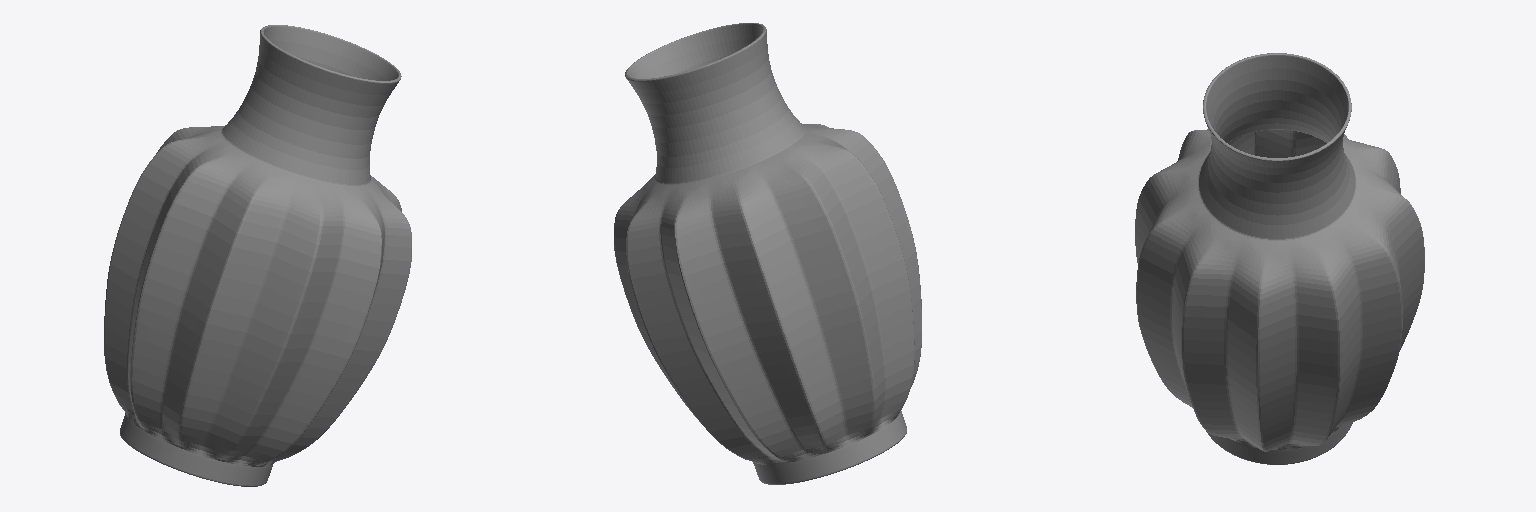
File: vase_xyz.obj
3 renders of one model, left to right at view 1: azimuth 30°, elevation 25°; view 2: azimuth 150°, elevation 25°; view 3: azimuth 270°, elevation 25°, orthographic.
Visible parts, largest first — view 1: 10327_Vase_v1_max2010.001; view 2: 10327_Vase_v1_max2010.001; view 3: 10327_Vase_v1_max2010.001.
Part boxes in pixels (bbox=[...]): 10327_Vase_v1_max2010.001: bbox=[104, 25, 411, 486]; 10327_Vase_v1_max2010.001: bbox=[614, 23, 921, 484]; 10327_Vase_v1_max2010.001: bbox=[1135, 53, 1424, 464].
Size of the model in its own units: 0.3256 by 0.4807 by 0.3009.